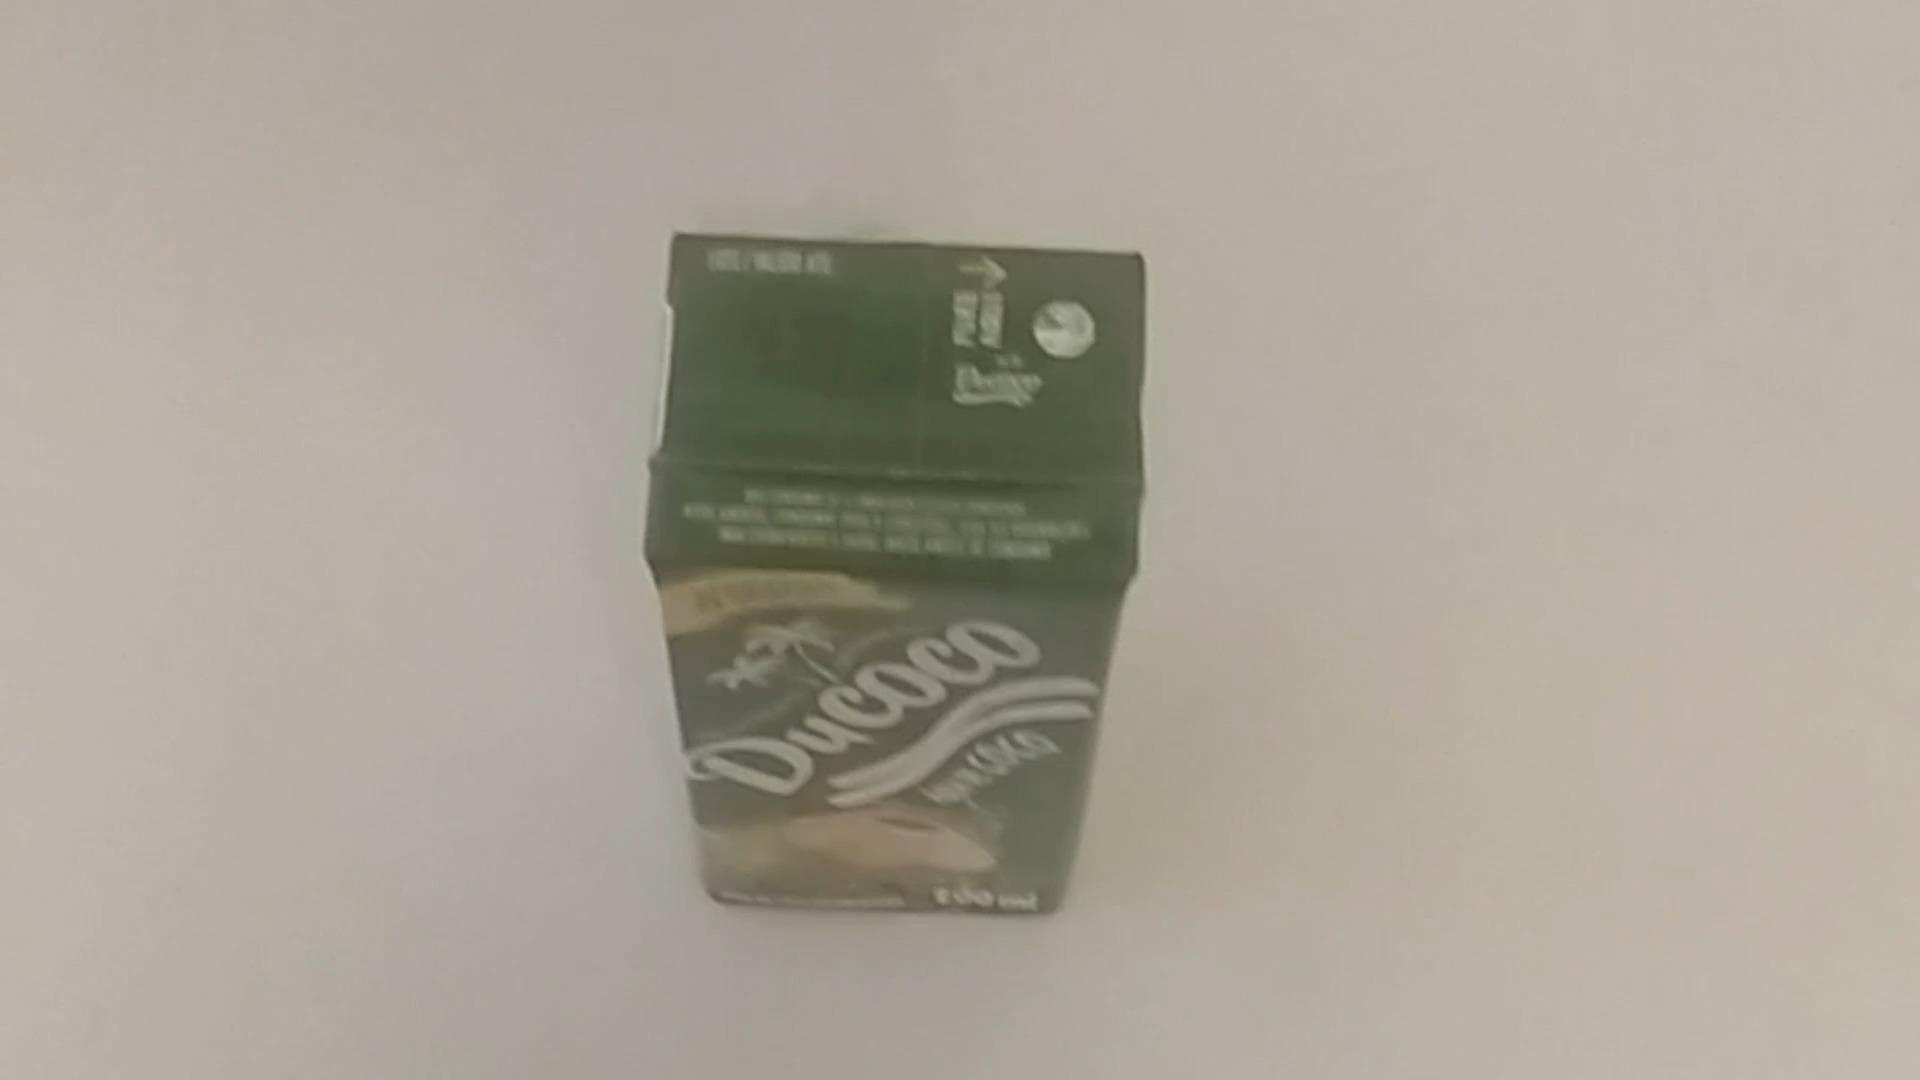coco: (646, 232, 1146, 926)
